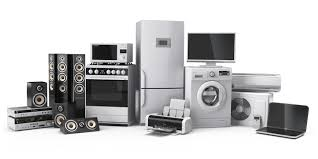AC: (232, 74, 282, 90)
Refrigerator: (140, 21, 185, 98)
